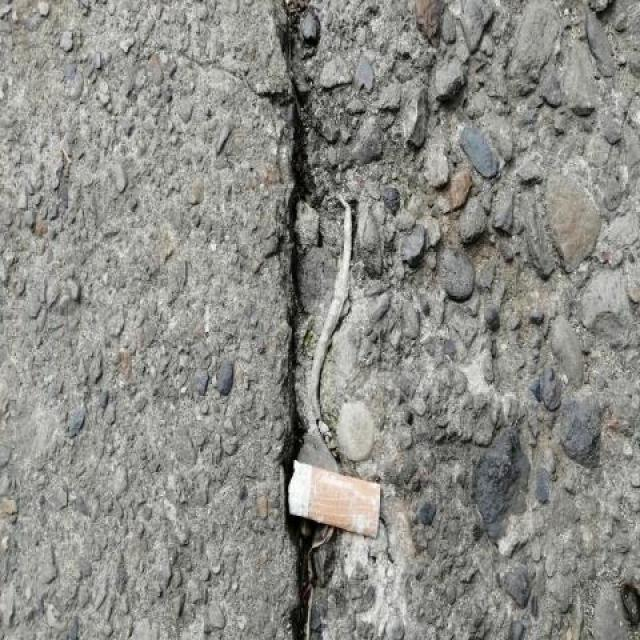non-organic waste: (282, 455, 386, 541)
